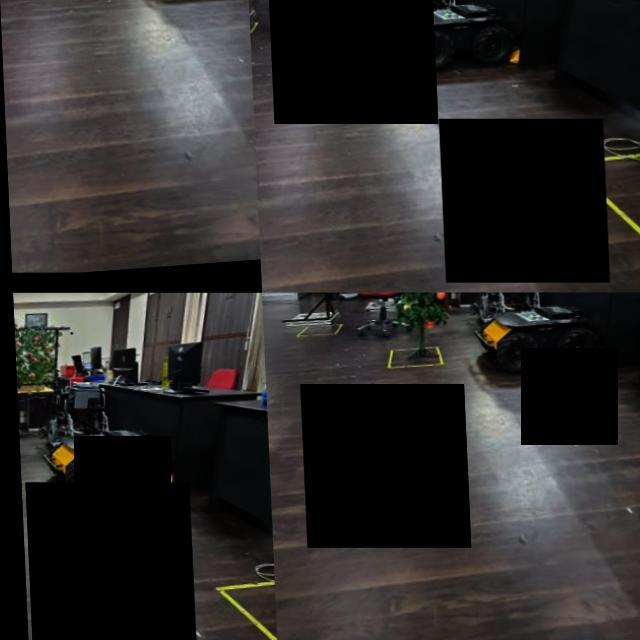Tree: (12, 293, 96, 640), (384, 294, 469, 369)
